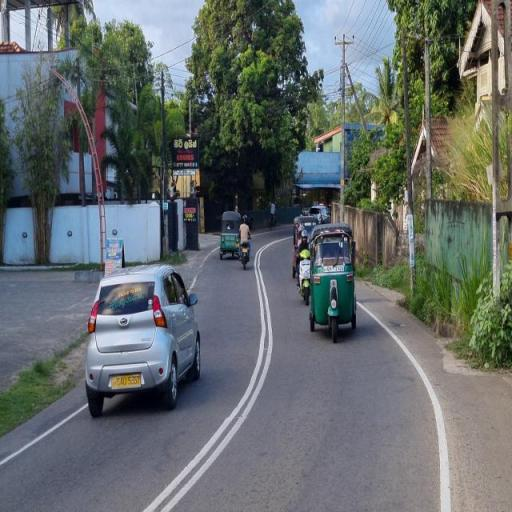double_white_line: (142, 232, 274, 510), (1, 402, 86, 468)
